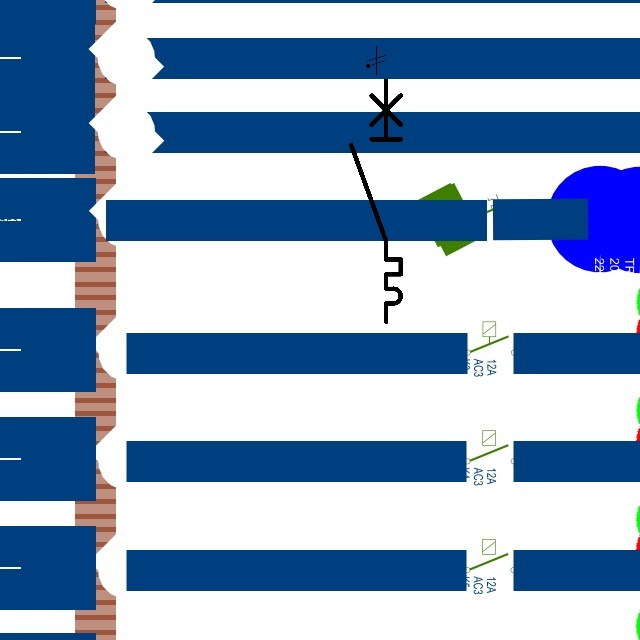interruptor_termomagnetico: (345, 74, 407, 327)
